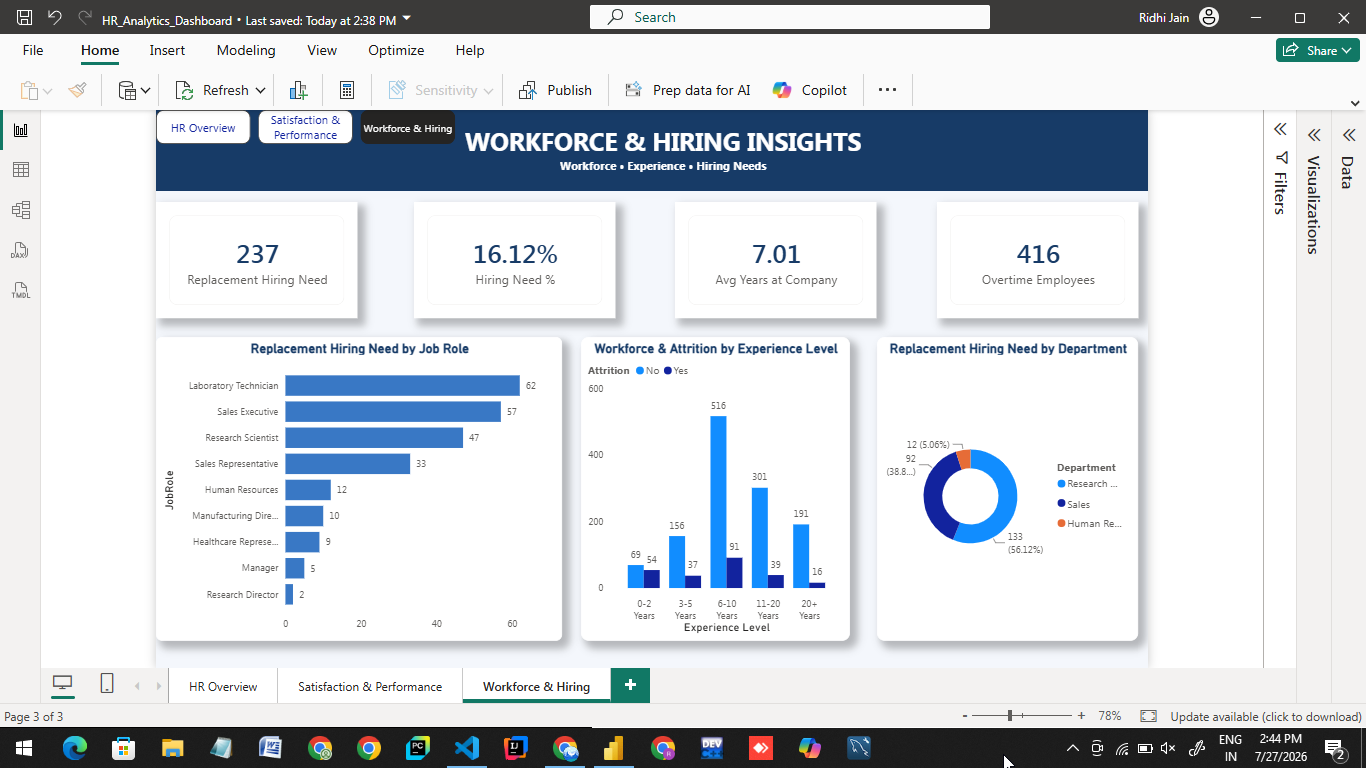

What the dashboard file says about the page in this screenshot:
{"tool":"powerbi","page":{"name":"Workforce & Hiring","canvas":[1280,720],"ordinal":2},"visuals":[{"type":"shape","box":[0,0,1280,104.5],"z":0},{"type":"textbox","box":[30.3,12.4,1249.7,92.2],"z":1000},{"type":"cardVisual","fields":{"Data":["WA_Fn-UseC_-HR-Employee-Attrition.Replacement Hiring Need"]},"box":[0,118.4,260.1,150],"z":2000},{"type":"cardVisual","fields":{"Data":["WA_Fn-UseC_-HR-Employee-Attrition.Hiring Need %"]},"box":[333.1,118.4,260.1,150],"z":3000},{"type":"cardVisual","fields":{"Data":["WA_Fn-UseC_-HR-Employee-Attrition.Avg Years at Company"]},"box":[670.3,118.4,260.1,150],"z":4000},{"type":"cardVisual","fields":{"Data":["WA_Fn-UseC_-HR-Employee-Attrition.Overtime Employees"]},"box":[1007.5,118.4,260.1,150],"z":5000},{"type":"clusteredBarChart","title":"Replacement Hiring Need by Job Role","fields":{"Category":["WA_Fn-UseC_-HR-Employee-Attrition.JobRole"],"Y":["WA_Fn-UseC_-HR-Employee-Attrition.Replacement Hiring Need"]},"box":[0,293.2,524.4,392.3],"z":6000},{"type":"clusteredColumnChart","title":"Workforce & Attrition by Experience Level","fields":{"Category":["WA_Fn-UseC_-HR-Employee-Attrition.Experience Level"],"Series":["WA_Fn-UseC_-HR-Employee-Attrition.Attrition"],"Y":["WA_Fn-UseC_-HR-Employee-Attrition.Total Employees"]},"box":[547.8,293.2,346.8,392.3],"z":7000},{"type":"donutChart","title":"Replacement Hiring Need by Department","fields":{"Category":["WA_Fn-UseC_-HR-Employee-Attrition.Department"],"Y":["WA_Fn-UseC_-HR-Employee-Attrition.Replacement Hiring Need"]},"box":[930.4,293.2,337.2,392.3],"z":8000},{"type":"pageNavigator","box":[0,0,388.1,44],"z":11001}]}

Visuals, with their boxes on the page's 1280x720 design canvas (x1, y1, x2, y2). These are canvas units, not pixel positions in the 1366x768 screenshot, which may show the page scaled, cropped or inside an application window:
shape: crop(0, 0, 1280, 104)
textbox: crop(30, 12, 1280, 105)
cardVisual - WA_Fn-UseC_-HR-Employee-Attrition.Replacement Hiring Need: crop(0, 118, 260, 268)
cardVisual - WA_Fn-UseC_-HR-Employee-Attrition.Hiring Need %: crop(333, 118, 593, 268)
cardVisual - WA_Fn-UseC_-HR-Employee-Attrition.Avg Years at Company: crop(670, 118, 930, 268)
cardVisual - WA_Fn-UseC_-HR-Employee-Attrition.Overtime Employees: crop(1008, 118, 1268, 268)
"Replacement Hiring Need by Job Role" clusteredBarChart: crop(0, 293, 524, 686)
"Workforce & Attrition by Experience Level" clusteredColumnChart: crop(548, 293, 895, 686)
"Replacement Hiring Need by Department" donutChart: crop(930, 293, 1268, 686)
pageNavigator: crop(0, 0, 388, 44)
